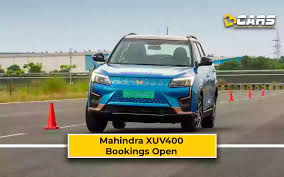XUV 400: (85, 25, 219, 134)
